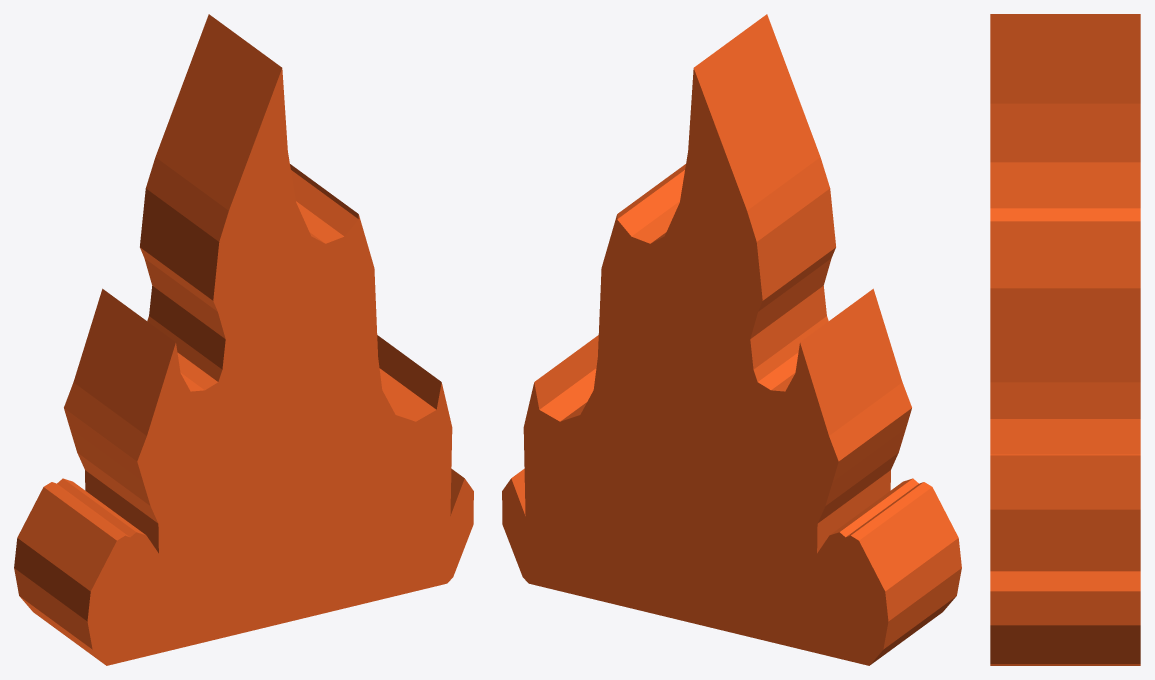
Rendered from obor2.obj.
3 renders of one model, left to right at view 1: azimuth 30°, elevation 25°; view 2: azimuth 150°, elevation 25°; view 3: azimuth 270°, elevation 25°, orthographic. The views are drawn at different scales.
Parts seen in each view (by area): view 1: Cube.010_Cube.086; view 2: Cube.010_Cube.086; view 3: Cube.010_Cube.086.
Part boxes in pixels (x1,y1,x2,y2): Cube.010_Cube.086: (14,14,473,665); Cube.010_Cube.086: (502,14,961,665); Cube.010_Cube.086: (990,14,1140,665).
Size of the model in its own units: 0.4364 by 0.6001 by 0.1437.
